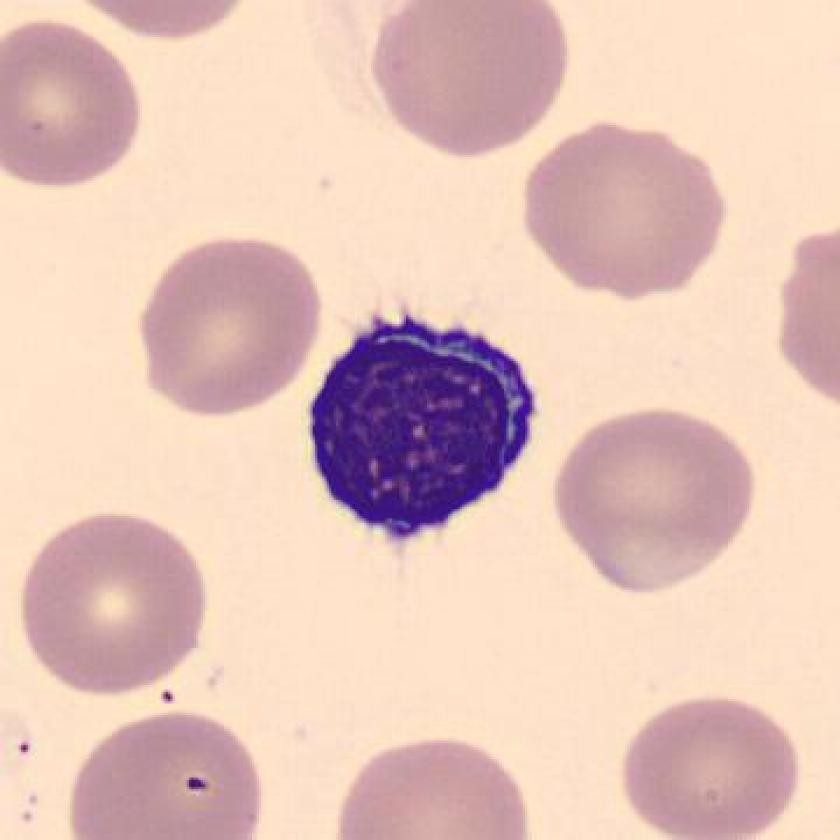lymphocyte: (295, 297, 554, 559)
